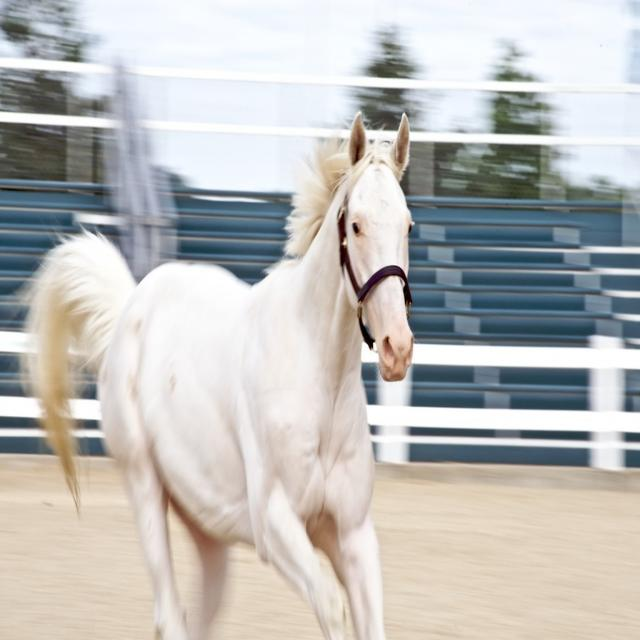Horse: (14, 108, 414, 640)
